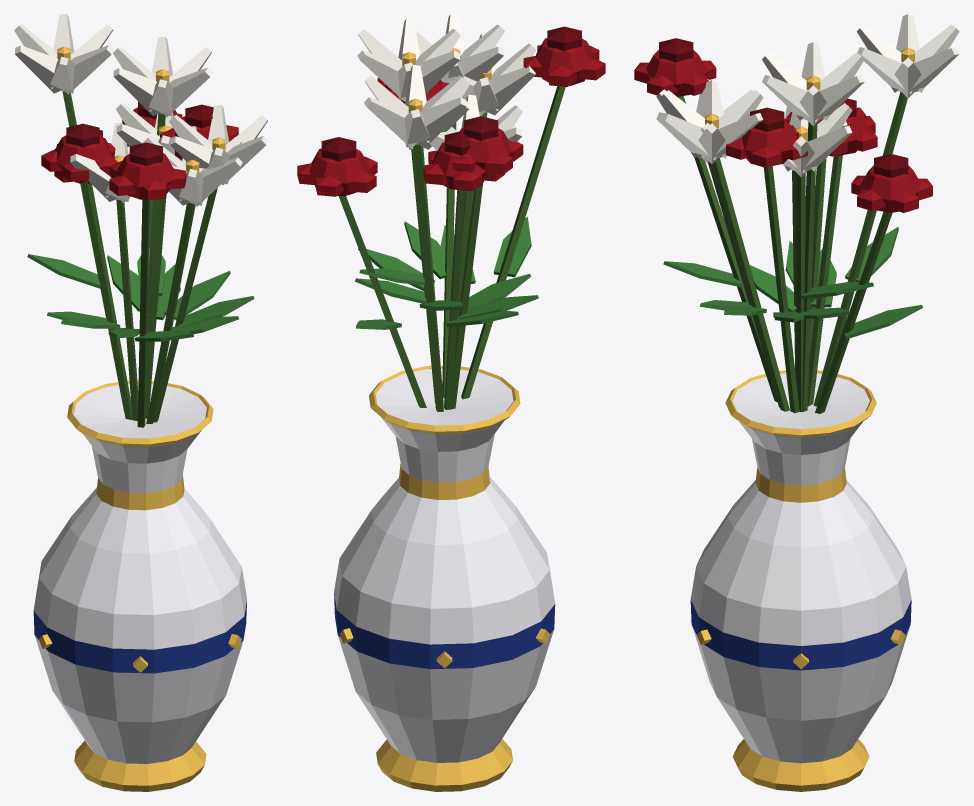
Rendered from vase_flowers.obj.
3 views of the same model, side by side, from view 1: azimuth 30°, elevation 25°; view 2: azimuth 150°, elevation 25°; view 3: azimuth 270°, elevation 25° (orthographic). The views are drawn at different scales.
Visible parts, largest first — view 1: lathe.003, lathe.001, lathe.005, lathe.002, lathe, lathe.078, lathe.062, torus, lathe.038, lathe.022, lathe.086, lathe.006 (+39 smaller); view 2: lathe.003, lathe.001, lathe.005, lathe.002, lathe, lathe.062, lathe.054, torus, lathe.014, lathe.078, lathe.004, lathe.030 (+33 smaller); view 3: lathe.003, lathe.001, lathe.005, lathe.002, lathe, lathe.086, lathe.046, lathe.054, lathe.014, lathe.070, lathe.030, lathe.006 (+37 smaller).
Boxes of the visible parts, x1,y1,x2,y2 form: lathe.003: [33, 487, 246, 649]; lathe.001: [34, 635, 243, 763]; lathe.005: [74, 383, 206, 493]; lathe.002: [33, 601, 246, 673]; lathe: [74, 740, 206, 791]; lathe.078: [81, 180, 132, 419]; lathe.062: [137, 199, 149, 427]; torus: [67, 380, 213, 446]; lathe.038: [116, 199, 138, 420]; lathe.022: [146, 203, 193, 423]; lathe.086: [154, 188, 217, 422]; lathe.006: [145, 197, 166, 418]; lathe.003: [334, 477, 555, 644]; lathe.001: [338, 630, 553, 762]; lathe.005: [375, 369, 513, 482]; lathe.002: [334, 593, 555, 669]; lathe: [376, 739, 512, 791]; lathe.062: [461, 86, 565, 399]; lathe.054: [413, 144, 443, 411]; torus: [368, 365, 520, 433]; lathe.014: [444, 190, 465, 409]; lathe.078: [452, 184, 482, 408]; lathe.004: [399, 463, 490, 499]; lathe.030: [338, 196, 426, 407]; lathe.003: [690, 480, 911, 645]; lathe.001: [692, 626, 909, 763]; lathe.005: [732, 373, 869, 485]; lathe.002: [690, 600, 911, 670]; lathe: [732, 739, 869, 791]; lathe.086: [712, 158, 789, 411]; lathe.046: [763, 166, 799, 412]; lathe.054: [813, 92, 907, 406]; lathe.014: [807, 155, 842, 406]; lathe.070: [802, 122, 817, 411]; lathe.030: [815, 211, 892, 413]; lathe.006: [796, 173, 805, 411].
Bounding box in the file's own units: 0.254 × 0.8664 × 0.3559.
